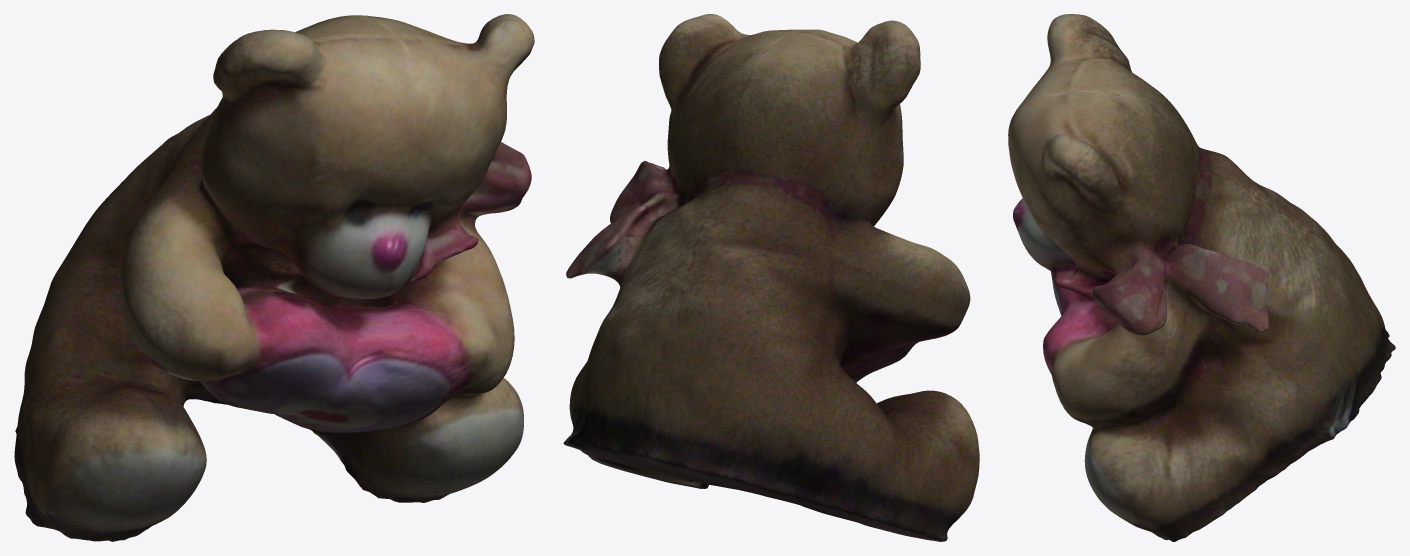
Rendered from teddy_bear_a1c7dbd5.glb.
3 renders of one model, left to right at view 1: azimuth 30°, elevation 25°; view 2: azimuth 150°, elevation 25°; view 3: azimuth 270°, elevation 25°, orthographic. The views are drawn at different scales.
Visible parts, largest first — view 1: Object_2; view 2: Object_2; view 3: Object_2.
Boxes of the visible parts, x1,y1,x2,y2 form: Object_2: [14, 14, 534, 541]; Object_2: [563, 14, 979, 541]; Object_2: [1008, 14, 1395, 541].
Size of the model in its own units: 0.2142 by 0.2527 by 0.2042.
Materials: 1 (1 with a texture image).
